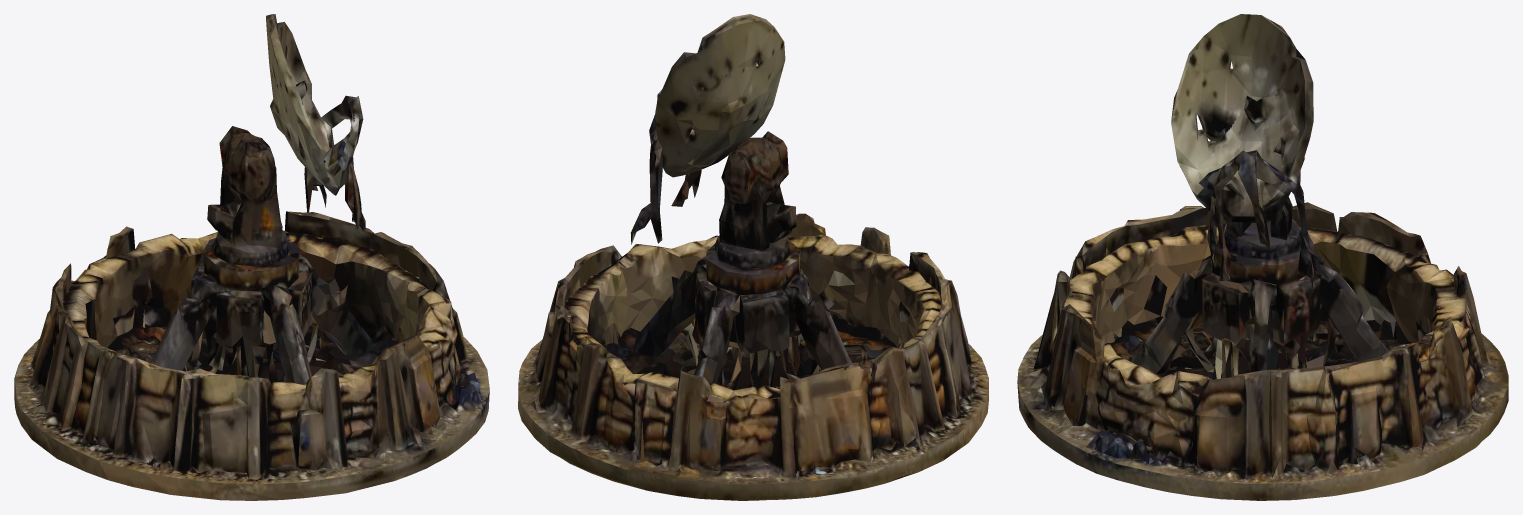
File: outpost-dish.glb
The picture shows the model from 3 angles, left to right: view 1: azimuth 30°, elevation 25°; view 2: azimuth 150°, elevation 25°; view 3: azimuth 270°, elevation 25°; orthographic projection. The views are drawn at different scales.
Visible parts, largest first — view 1: tmp4k705con.ply; view 2: tmp4k705con.ply; view 3: tmp4k705con.ply.
Boxes of the visible parts, x1,y1,x2,y2 form: tmp4k705con.ply: [14, 14, 489, 500]; tmp4k705con.ply: [518, 14, 988, 500]; tmp4k705con.ply: [1017, 14, 1508, 500].
Bounding box in the file's own units: 3.4 × 3 × 3.4.
Materials: 1 (1 with a texture image).
